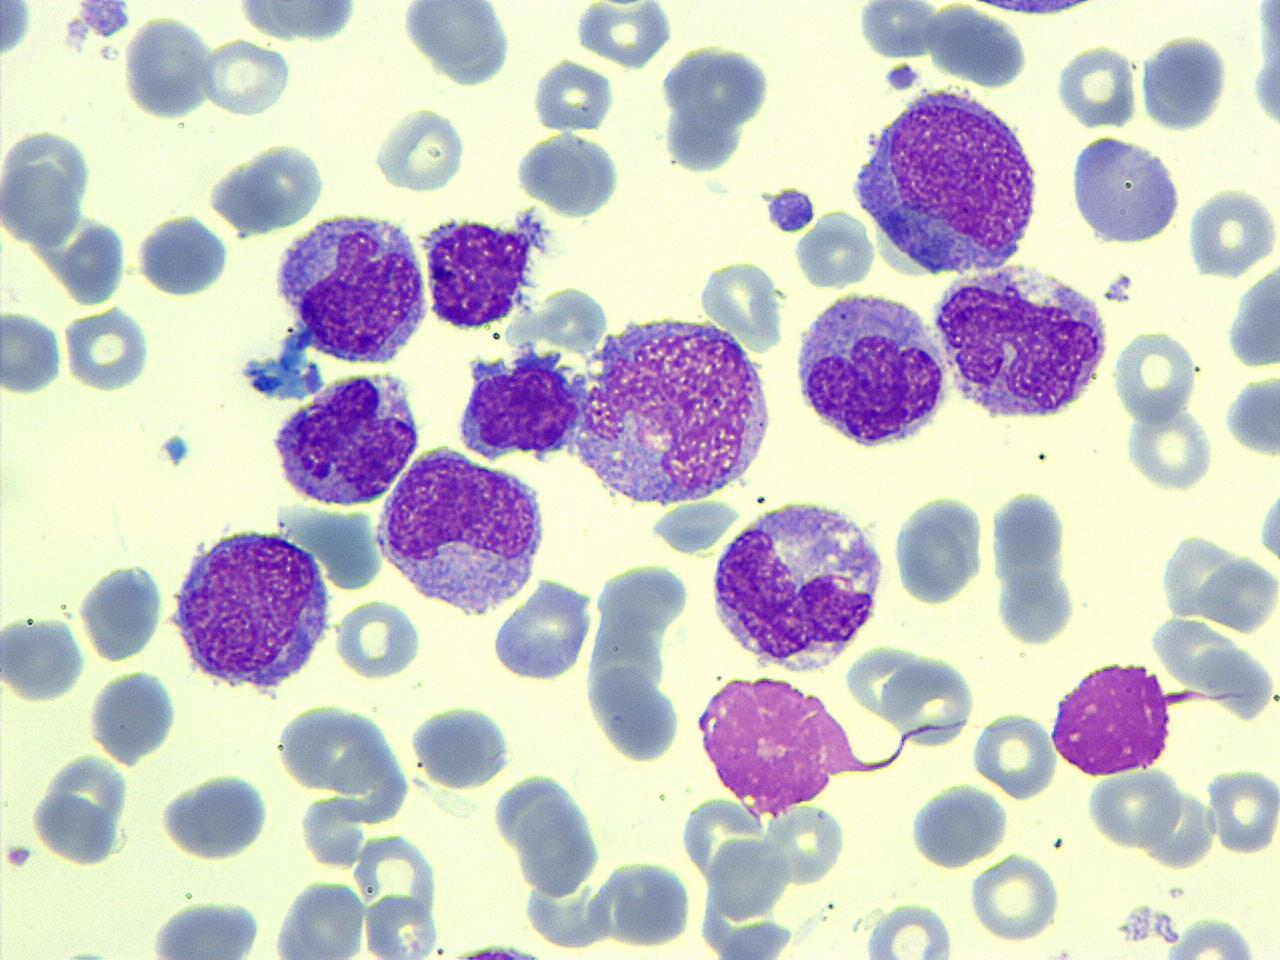Platelets: (892, 498, 980, 609), (794, 210, 880, 288), (0, 307, 67, 399), (1222, 369, 1280, 462), (853, 0, 937, 61), (758, 187, 818, 236), (450, 938, 549, 960), (1251, 56, 1280, 131), (76, 0, 132, 38), (0, 1, 34, 61), (1256, 489, 1280, 569), (157, 432, 193, 470), (882, 62, 922, 94), (56, 942, 113, 960), (1104, 272, 1134, 298), (513, 206, 532, 228)
RBC: (30, 753, 132, 867), (491, 574, 595, 684), (119, 13, 213, 123), (892, 496, 976, 610), (1184, 182, 1278, 282), (1122, 394, 1215, 494), (371, 103, 472, 195), (1111, 326, 1201, 426), (968, 852, 1062, 945), (698, 254, 786, 354), (60, 303, 154, 394), (268, 874, 370, 958), (1086, 764, 1184, 850), (972, 708, 1059, 800), (332, 596, 422, 684), (0, 614, 88, 704), (198, 36, 292, 118), (1054, 42, 1140, 130), (764, 800, 848, 888), (570, 2, 675, 69), (1206, 763, 1280, 858), (794, 208, 878, 290), (530, 54, 617, 134), (1200, 554, 1278, 634), (860, 899, 958, 959), (853, 0, 940, 61), (1160, 915, 1264, 960)
WBC: (566, 305, 778, 512), (846, 82, 1048, 277), (706, 494, 890, 675), (370, 442, 550, 620), (928, 259, 1112, 424), (162, 522, 335, 694), (0, 116, 143, 308), (790, 285, 954, 452), (580, 556, 702, 768), (270, 204, 430, 366), (690, 670, 856, 818), (270, 363, 426, 514), (654, 38, 782, 178), (1046, 656, 1178, 778), (987, 486, 1083, 647), (420, 210, 540, 332), (1068, 131, 1186, 248), (208, 137, 334, 236), (28, 751, 132, 870), (157, 768, 274, 866), (511, 126, 629, 222), (397, 0, 515, 91), (0, 131, 88, 252), (86, 664, 182, 768), (406, 700, 516, 790), (906, 778, 1013, 869), (1138, 30, 1230, 135), (77, 559, 166, 664), (133, 211, 233, 301), (0, 610, 88, 707), (144, 898, 264, 960), (994, 563, 1077, 647), (226, 0, 364, 45), (1227, 258, 1280, 374), (1223, 370, 1280, 460)
